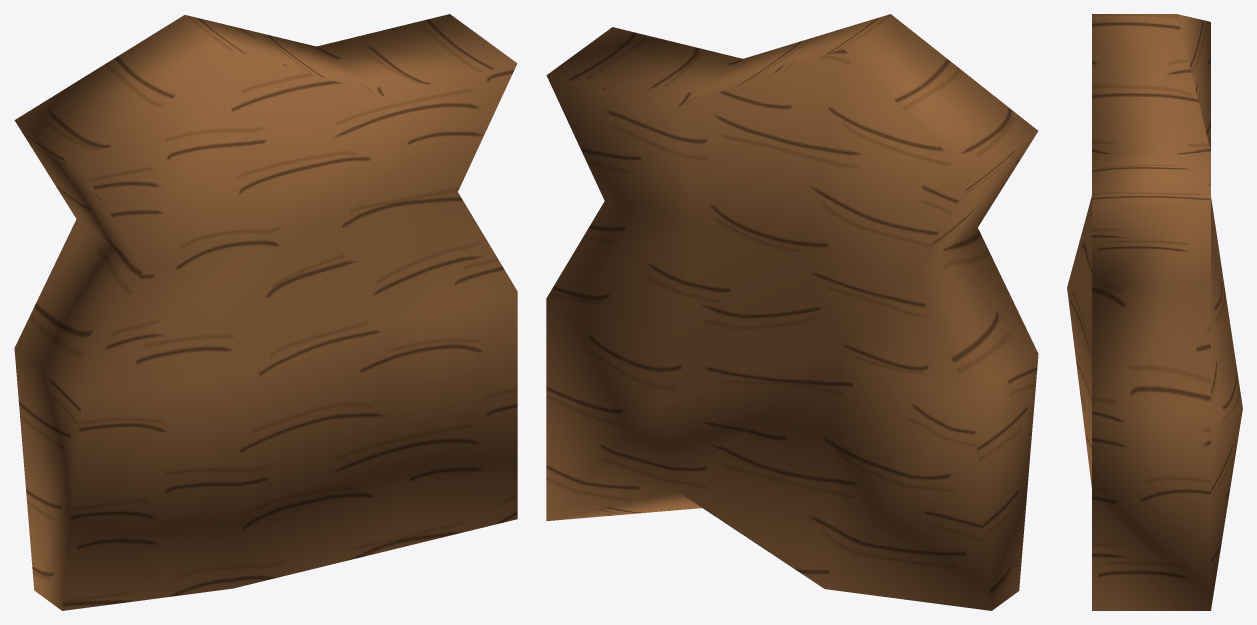
Rendered from item-bark-chip-jungle.glb.
The picture shows the model from 3 angles, left to right: view 1: azimuth 30°, elevation 25°; view 2: azimuth 150°, elevation 25°; view 3: azimuth 270°, elevation 25°; orthographic projection. The views are drawn at different scales.
Bounding box in the file's own units: 2 × 2.36 × 0.7938.
1 material, 1 textured.
